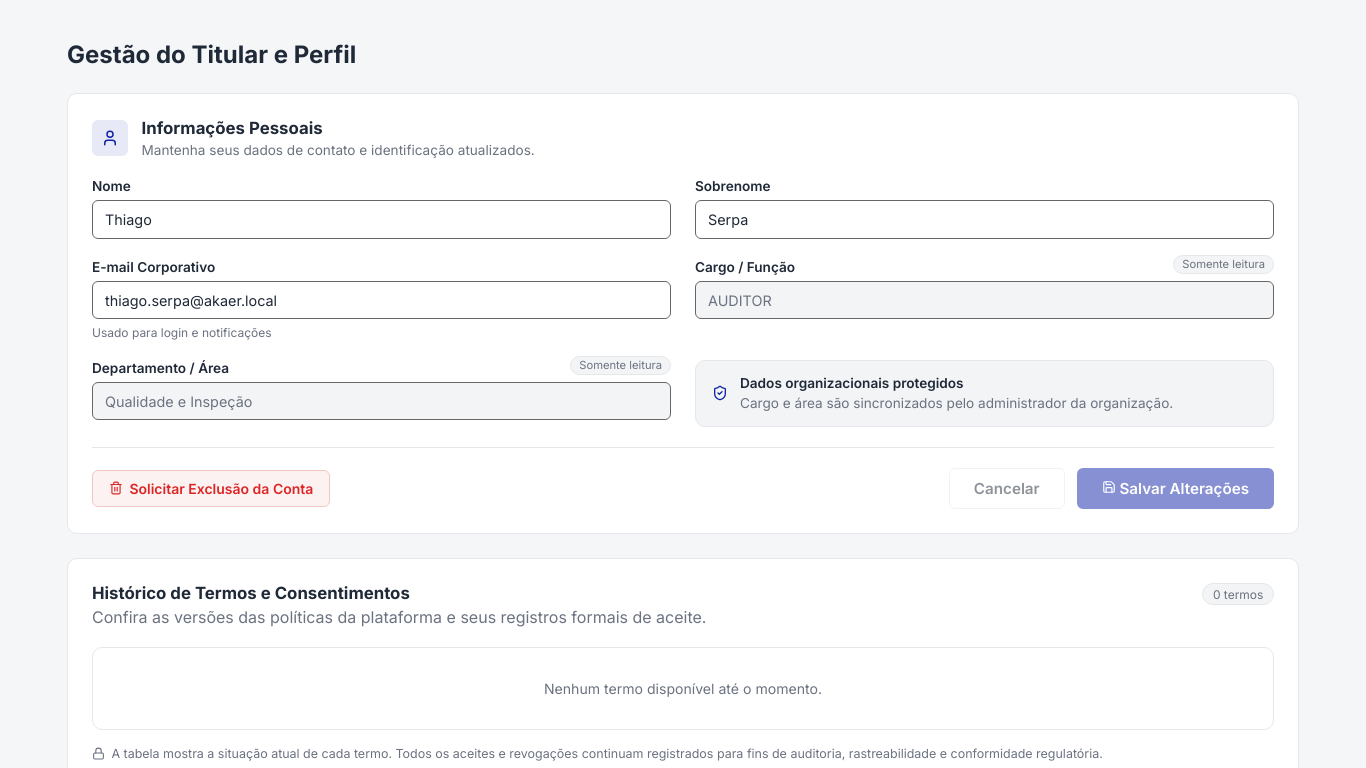
UserManagementView › should save the joined name, update the navbar user and show a success toast
The image size is (1366, 768).
Replace the text in the field with id "first-name" with "Tiago": x=382, y=220 [92, 200, 671, 239]
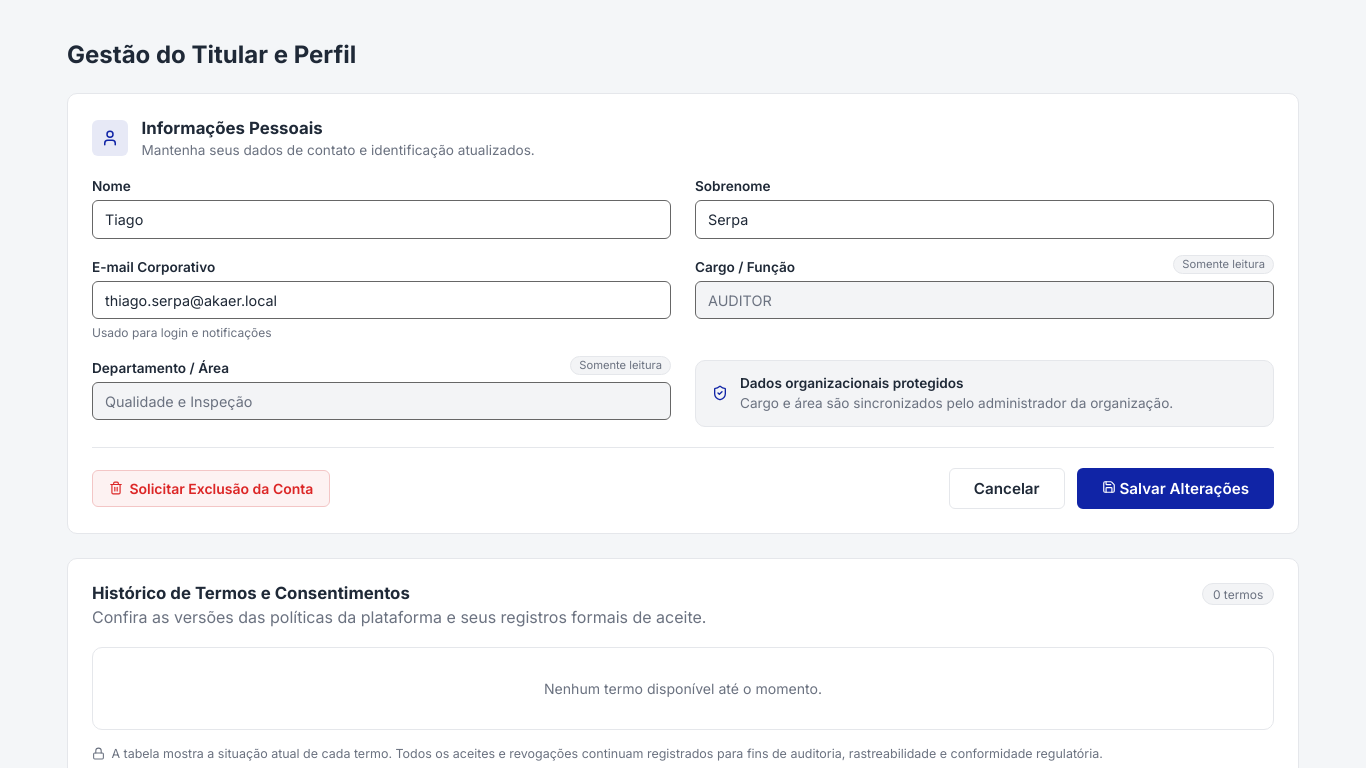
Click the button "Salvar Alterações": x=1175, y=488 [1077, 468, 1274, 509]
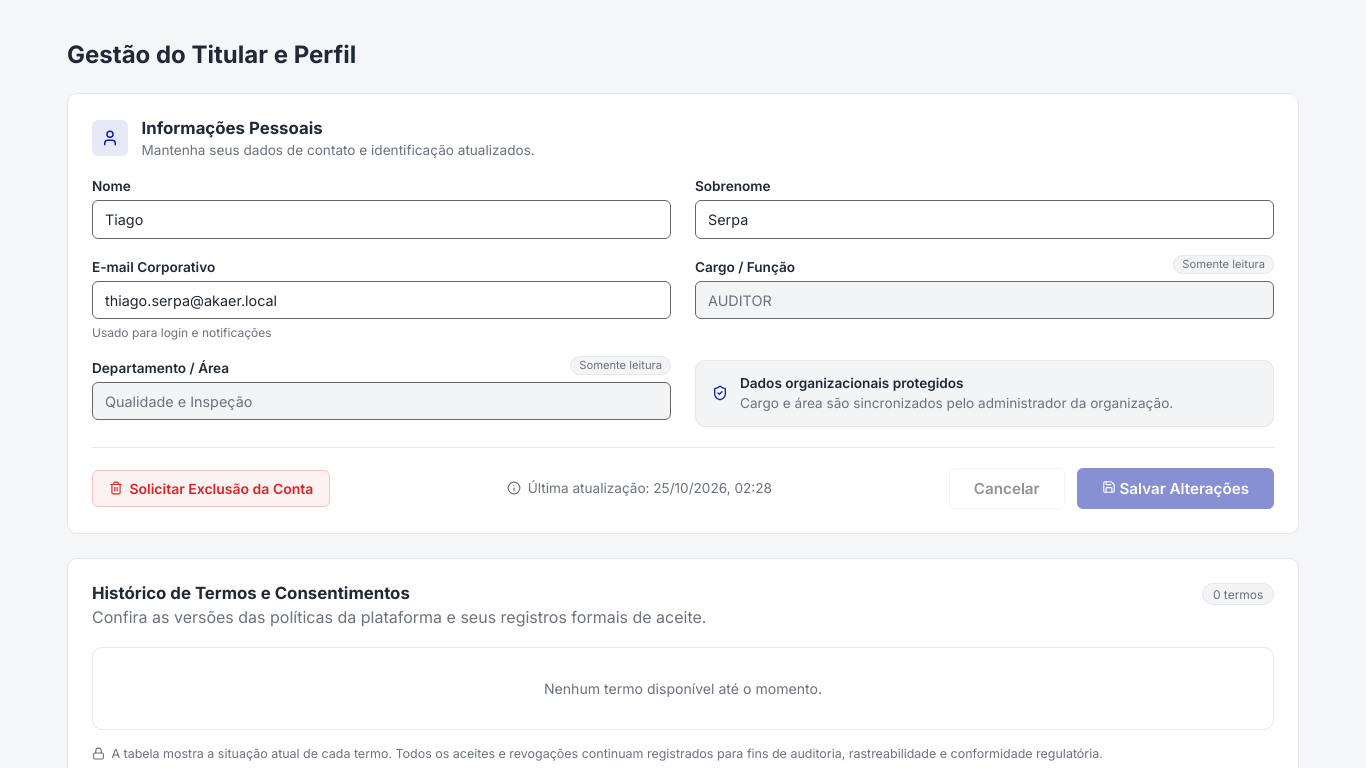
Expected: the text "Última atualização" is shown, [528, 480, 772, 496]
